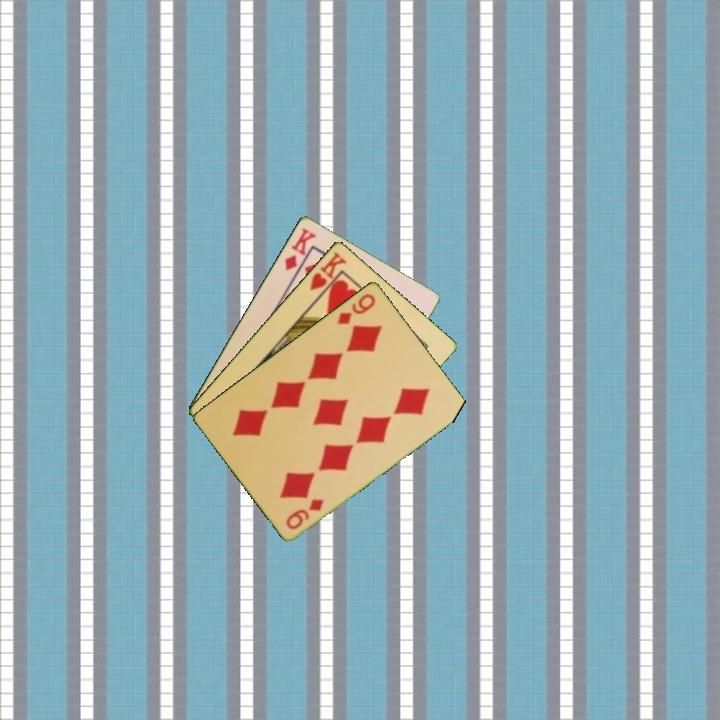9d: (333, 290, 378, 327), (282, 495, 327, 532)
Kd: (281, 224, 319, 273)
Kh: (306, 248, 349, 301)
